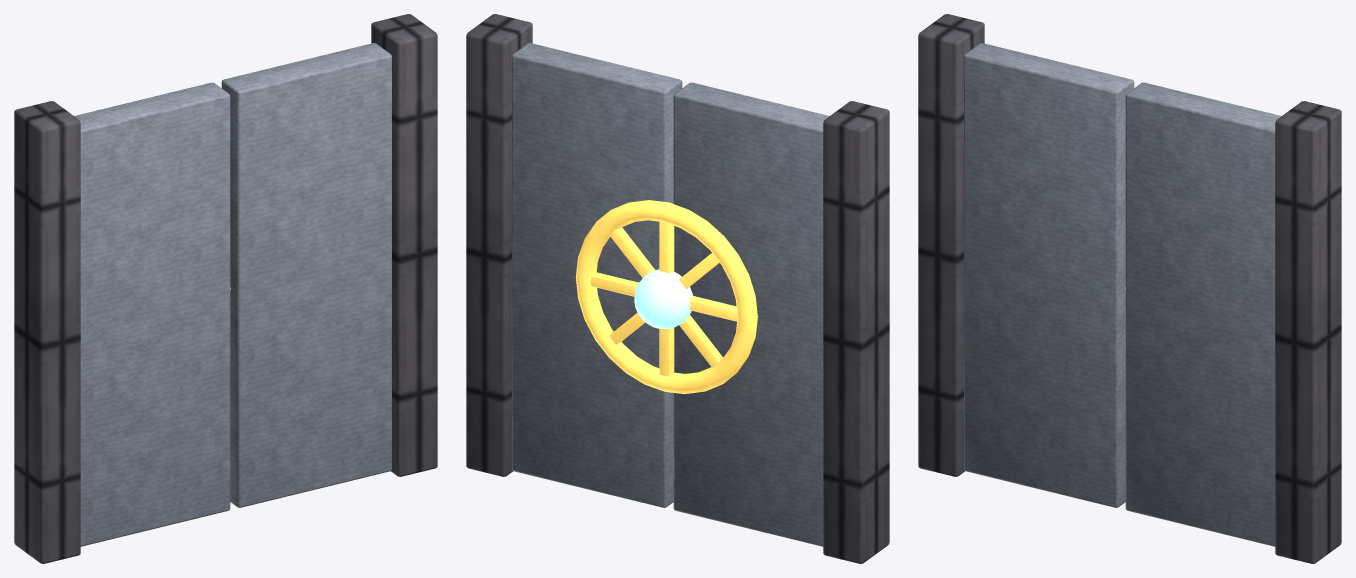
File: vault_gate.glb
The picture shows the model from 3 angles, left to right: view 1: azimuth 30°, elevation 25°; view 2: azimuth 150°, elevation 25°; view 3: azimuth 330°, elevation 25°; orthographic projection.
Parts seen in each view (by area): view 1: VaultDoorR, VaultDoorL, VaultFrameL, VaultFrameR; view 2: VaultDoorR, VaultDoorL, VaultFrameL, VaultFrameR, SunWheel, CenterGem, Spoke.003, Spoke.002, Spoke, Spoke.001; view 3: VaultDoorL, VaultDoorR, VaultFrameR, VaultFrameL.
Boxes of the visible parts, x1,y1,x2,y2 form: VaultDoorR: (221, 43, 391, 507); VaultDoorL: (74, 82, 230, 546); VaultFrameL: (14, 101, 80, 563); VaultFrameR: (371, 14, 437, 476); VaultDoorR: (512, 43, 682, 507); VaultDoorL: (673, 82, 829, 546); VaultFrameL: (823, 101, 889, 563); VaultFrameR: (466, 14, 532, 476); SunWheel: (575, 200, 757, 393); CenterGem: (634, 269, 692, 328); Spoke.003: (609, 227, 723, 367); Spoke.002: (659, 221, 674, 376); Spoke: (590, 272, 737, 321); Spoke.001: (609, 253, 719, 344); VaultDoorL: (964, 43, 1134, 507); VaultDoorR: (1125, 82, 1281, 546); VaultFrameR: (1275, 101, 1341, 563); VaultFrameL: (918, 14, 984, 476).
Size of the model in its own units: 3.34 by 3.5 by 0.63.
4 materials, 3 textured.
